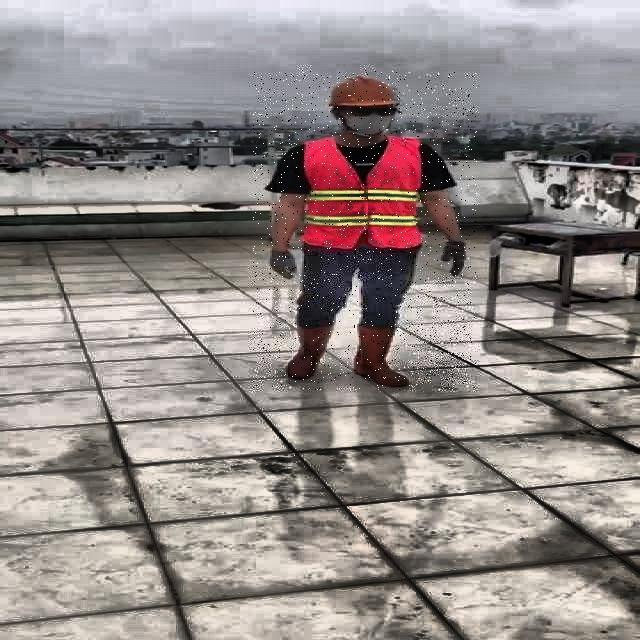safety_helmet: (322, 74, 400, 110)
safety_jacket: (300, 138, 424, 247)
